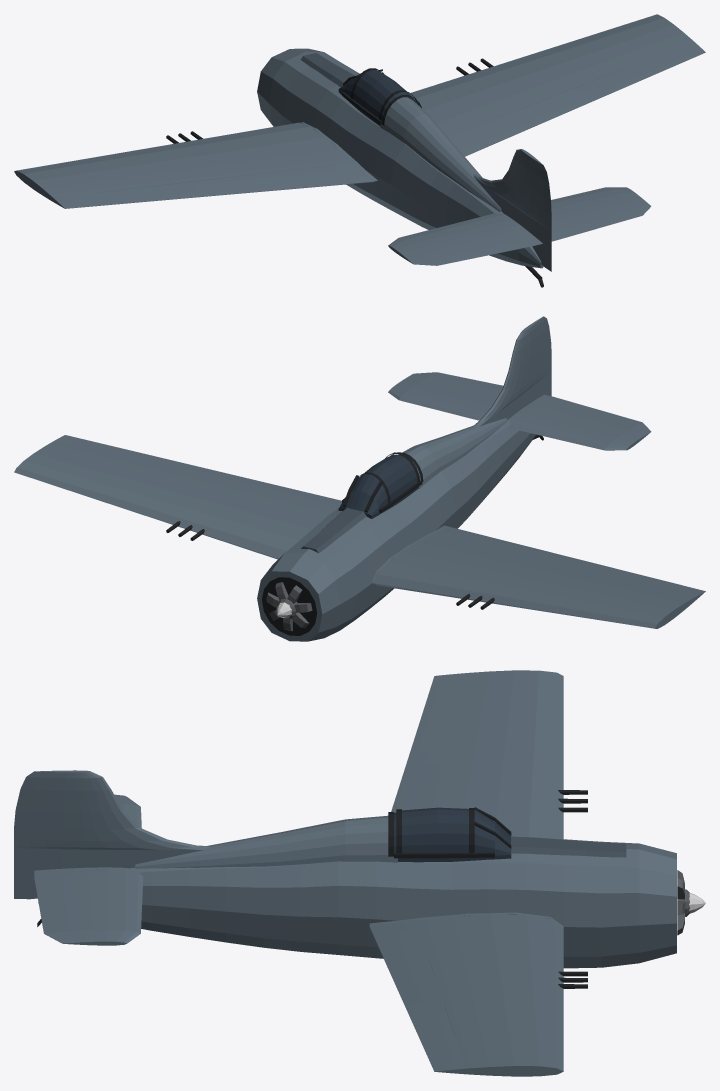
3 views of the same model, one above another, from view 1: azimuth 30°, elevation 25°; view 2: azimuth 150°, elevation 25°; view 3: azimuth 270°, elevation 25° (orthographic). The views are drawn at different scales.
Parts seen in each view (by area): view 1: Fuselage, Wing L, Wing R, Dorsal Spine, Flap R, Stabilizer L, Flap L, Rudder, Stabilizer R, Elevator L, Vertical Fin, Cockpit Glass (+5 smaller); view 2: Fuselage, Wing R, Wing L, Stabilizer L, Stabilizer R, Cockpit Glass, Dorsal Spine, Vertical Fin, Rudder, Flap R, Flap L, Elevator L (+7 smaller); view 3: Fuselage, Wing R, Wing L, Dorsal Spine, Rudder, Vertical Fin, Stabilizer R, Cockpit Glass, Flap R, Elevator R, Aileron L, Glare Panel (+3 smaller).
Part boxes in pixels (x1,y1,x2,y2): Fuselage: (257, 48, 543, 268); Wing L: (14, 122, 377, 208); Wing R: (409, 14, 705, 156); Dorsal Spine: (380, 97, 501, 211); Flap R: (449, 88, 590, 156); Stabilizer L: (388, 213, 527, 258); Flap L: (189, 165, 353, 196); Rudder: (523, 152, 551, 271); Stabilizer R: (551, 187, 642, 224); Elevator L: (405, 231, 542, 265); Vertical Fin: (473, 149, 527, 227); Cockpit Glass: (338, 70, 417, 126); Fuselage: (257, 419, 535, 641); Wing R: (14, 435, 333, 559); Wing L: (372, 525, 705, 628); Stabilizer L: (509, 403, 642, 450); Stabilizer R: (388, 379, 497, 420); Cockpit Glass: (338, 455, 419, 518); Dorsal Spine: (398, 418, 507, 488); Vertical Fin: (473, 329, 528, 426); Rudder: (524, 316, 551, 404); Flap R: (189, 468, 341, 511); Flap L: (448, 530, 590, 569); Elevator L: (531, 394, 651, 438); Fuselage: (38, 837, 676, 968); Wing R: (369, 912, 587, 1076); Wing L: (405, 670, 587, 839); Dorsal Spine: (135, 815, 397, 868); Rudder: (14, 770, 78, 899); Vertical Fin: (78, 770, 209, 868); Stabilizer R: (71, 867, 143, 945); Cockpit Glass: (394, 807, 511, 862); Flap R: (373, 929, 442, 1006); Elevator R: (34, 868, 84, 944); Aileron L: (410, 683, 462, 752); Glare Panel: (510, 836, 626, 857).
Bounding box in the file's own units: 11.58 × 2.61 × 8.56.
